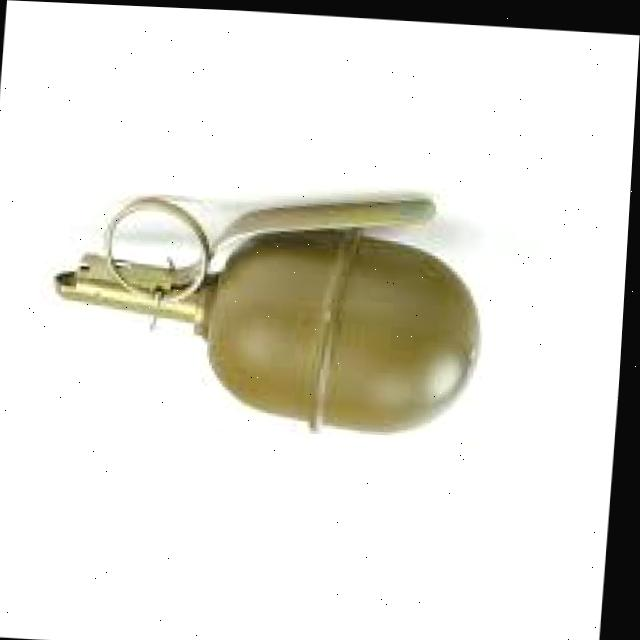grenade: (38, 174, 519, 457)
